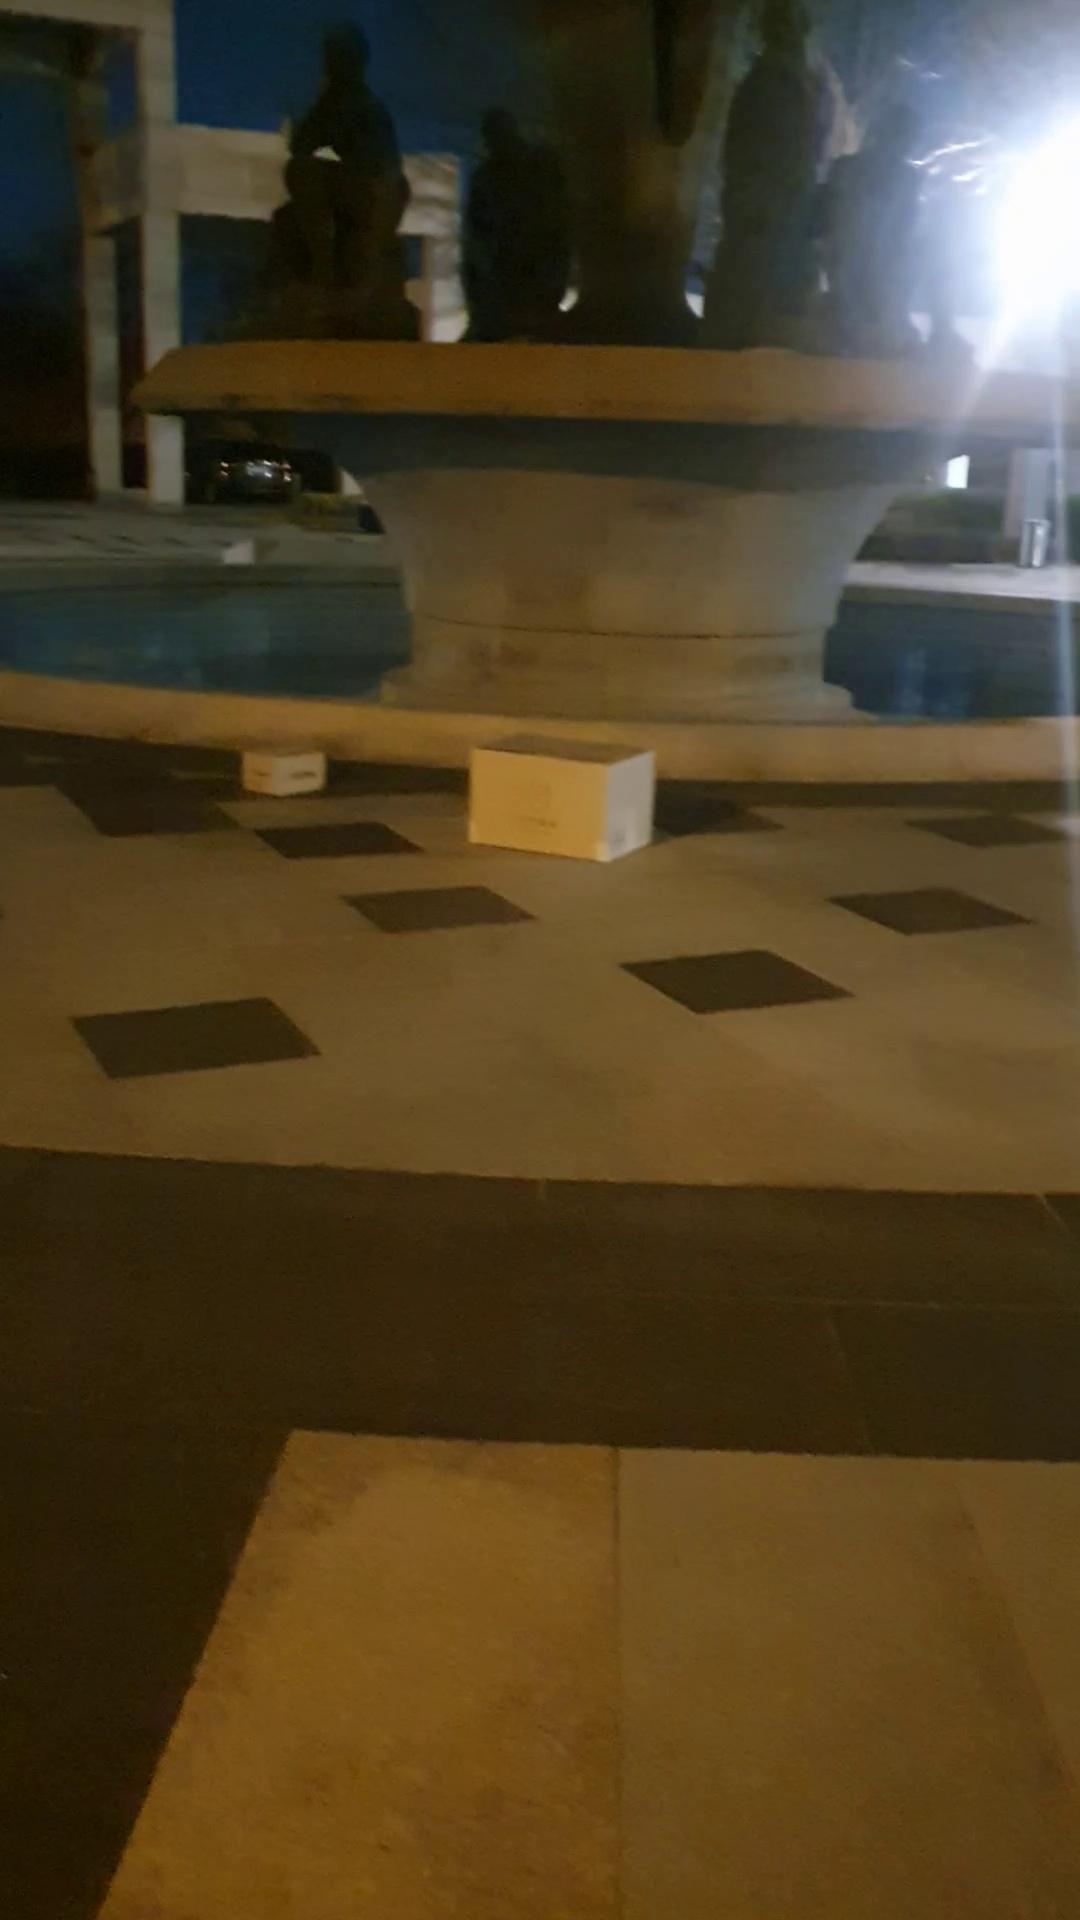Box: (458, 717, 673, 868), (243, 738, 320, 798)
